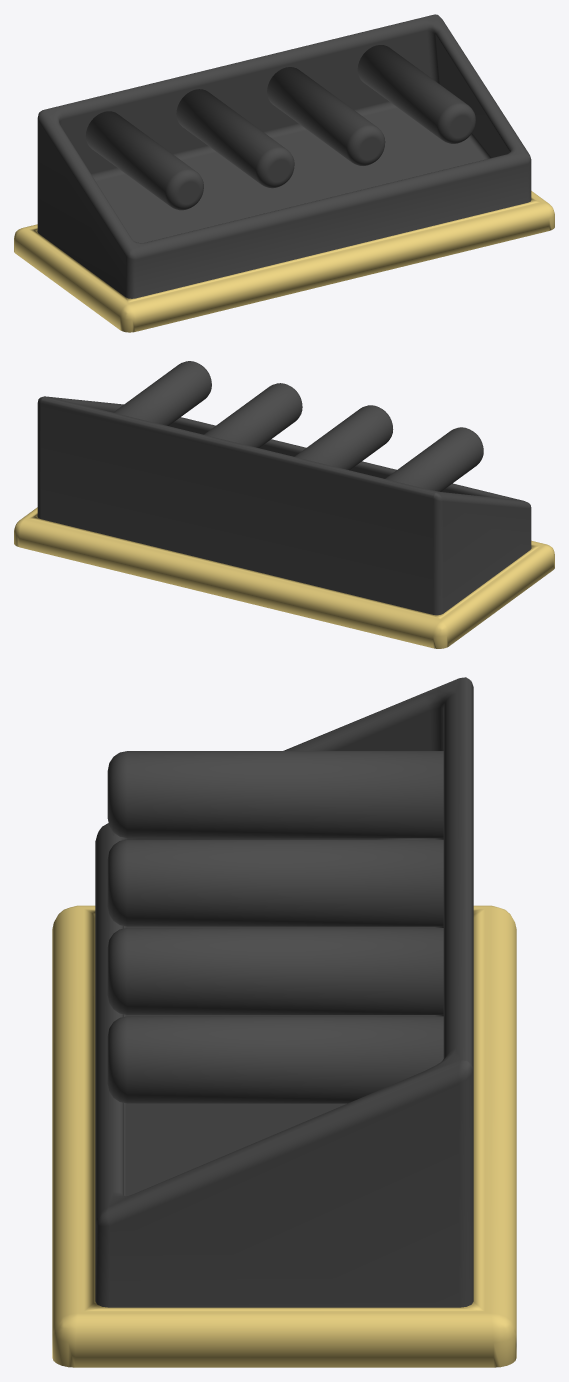
The model's file is yuzukTezgah.fbx.
3 views of the same model, one above another, from view 1: azimuth 30°, elevation 25°; view 2: azimuth 150°, elevation 25°; view 3: azimuth 270°, elevation 25° (orthographic). The views are drawn at different scales.
Parts seen in each view (by area): view 1: yuzukTezgah; view 2: yuzukTezgah; view 3: yuzukTezgah.
Part boxes in pixels (x1=…): yuzukTezgah: x1=14, y1=14, x2=554, y2=332; yuzukTezgah: x1=14, y1=361, x2=554, y2=648; yuzukTezgah: x1=52, y1=677, x2=516, y2=1367.
Size of the model in its own units: 215 by 68.05 by 99.74.
